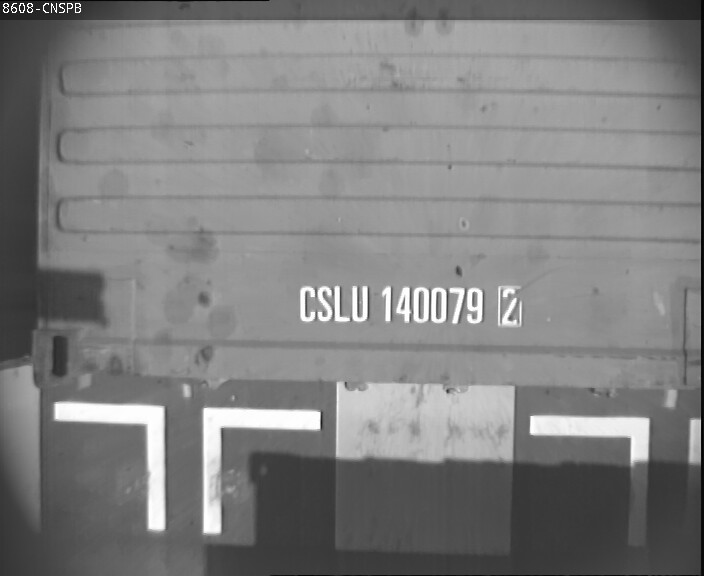groundmarker_1: (53, 400, 320, 532)
